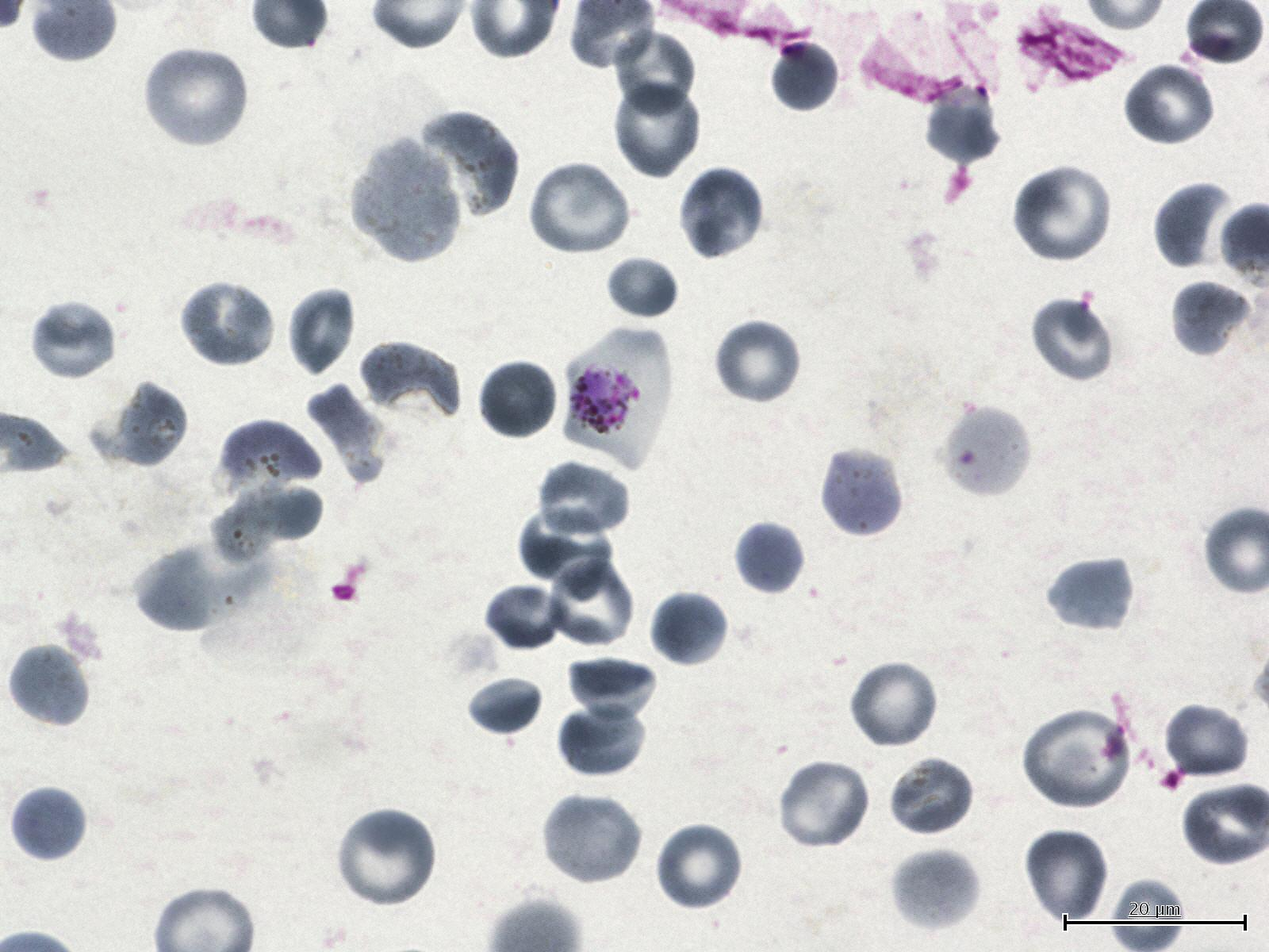Infected: (565, 327, 671, 468)
Uninfected: (350, 152, 463, 260), (1022, 707, 1133, 812), (144, 44, 249, 147), (414, 110, 516, 214), (336, 806, 436, 908), (528, 160, 631, 258), (1013, 166, 1112, 265), (522, 502, 615, 601), (542, 793, 642, 885), (612, 77, 700, 179), (776, 758, 871, 851), (217, 416, 324, 497), (180, 278, 276, 368), (546, 557, 637, 650), (678, 165, 765, 262), (352, 340, 467, 412), (849, 658, 938, 750), (1023, 828, 1109, 923), (654, 820, 742, 912), (134, 546, 227, 633), (100, 380, 188, 471), (889, 846, 981, 933), (819, 447, 905, 540), (1124, 60, 1214, 148), (608, 21, 696, 111), (302, 383, 387, 476), (714, 319, 802, 406), (1028, 297, 1114, 385), (534, 455, 631, 533), (1152, 182, 1236, 272), (219, 486, 322, 558), (6, 642, 91, 729), (943, 409, 1029, 494), (29, 300, 117, 383), (886, 757, 973, 839), (556, 703, 646, 780), (1163, 704, 1250, 783), (1170, 278, 1252, 361), (1045, 557, 1135, 631), (478, 359, 558, 440), (565, 655, 658, 724), (648, 589, 728, 669), (7, 784, 87, 863), (287, 285, 358, 374), (485, 582, 570, 654), (730, 519, 806, 597), (767, 37, 843, 114), (927, 86, 1004, 162), (463, 670, 544, 739), (604, 250, 677, 321)
